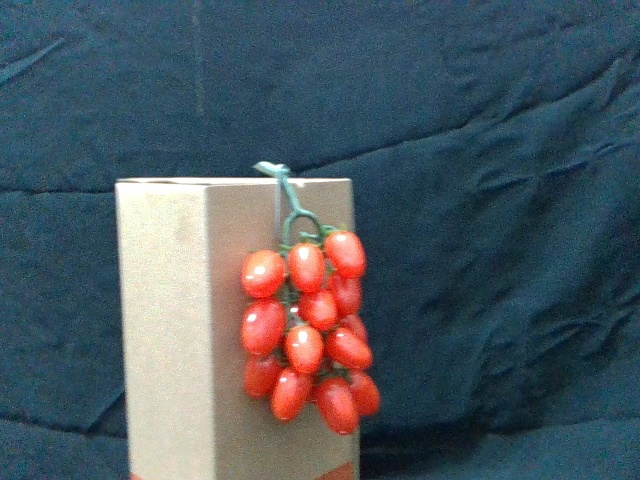tomato: (240, 299, 289, 356), (313, 378, 358, 439), (239, 248, 290, 300), (270, 366, 315, 421), (324, 326, 375, 373), (289, 241, 327, 297), (285, 323, 324, 377), (324, 229, 368, 275), (243, 355, 283, 400), (345, 370, 382, 417), (300, 287, 338, 331), (327, 271, 363, 317)
